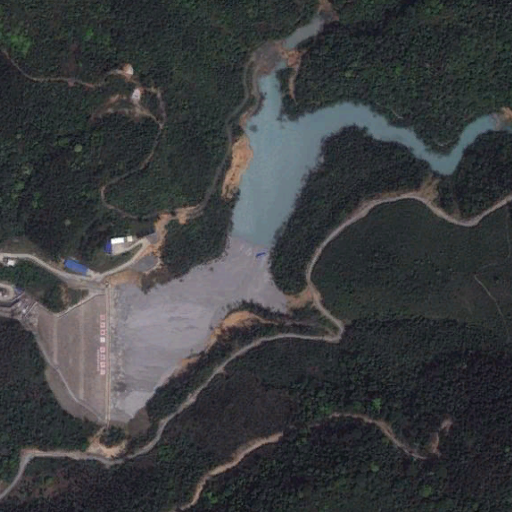tp: (30, 13, 512, 425)
